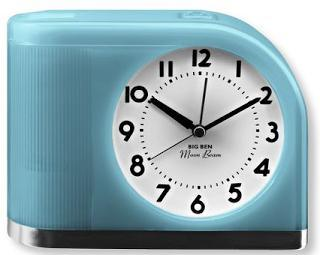clock: (8, 7, 310, 251)
